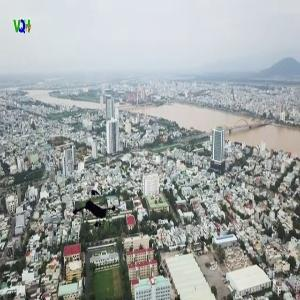drone: (70, 177, 127, 234)
